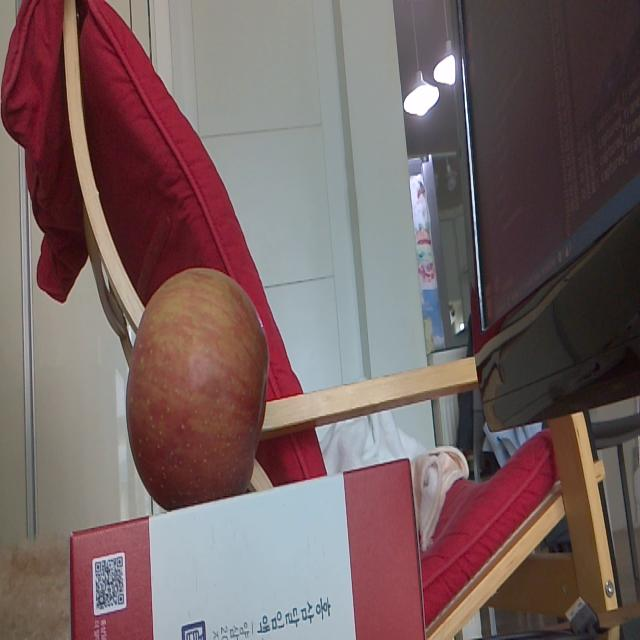apple: (125, 266, 273, 513)
